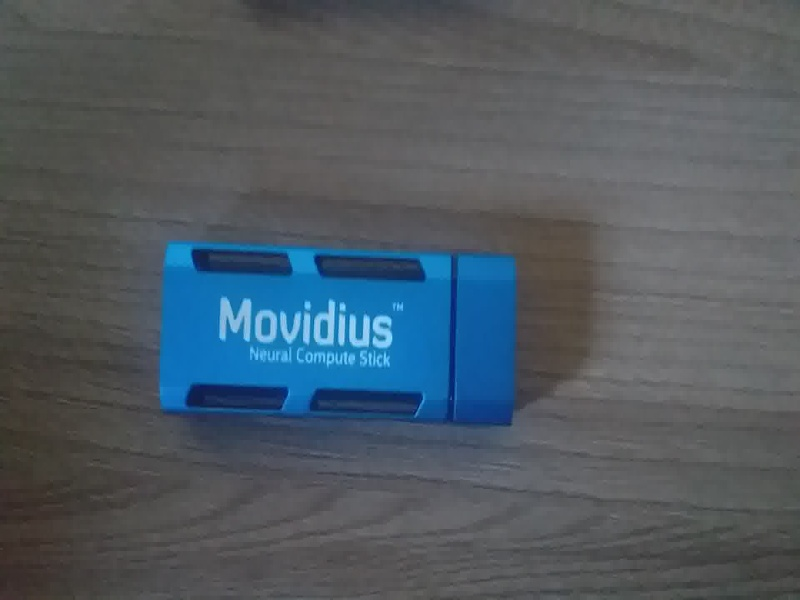movidius: (153, 232, 527, 448)
